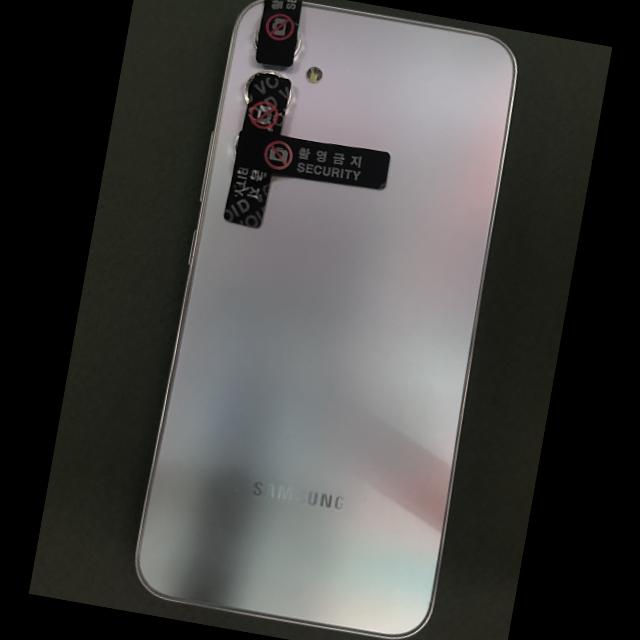lens: (244, 70, 284, 103), (294, 32, 301, 57)
phone: (133, 0, 519, 640)
sticker: (234, 129, 390, 190), (255, 0, 303, 67), (242, 73, 291, 134)
